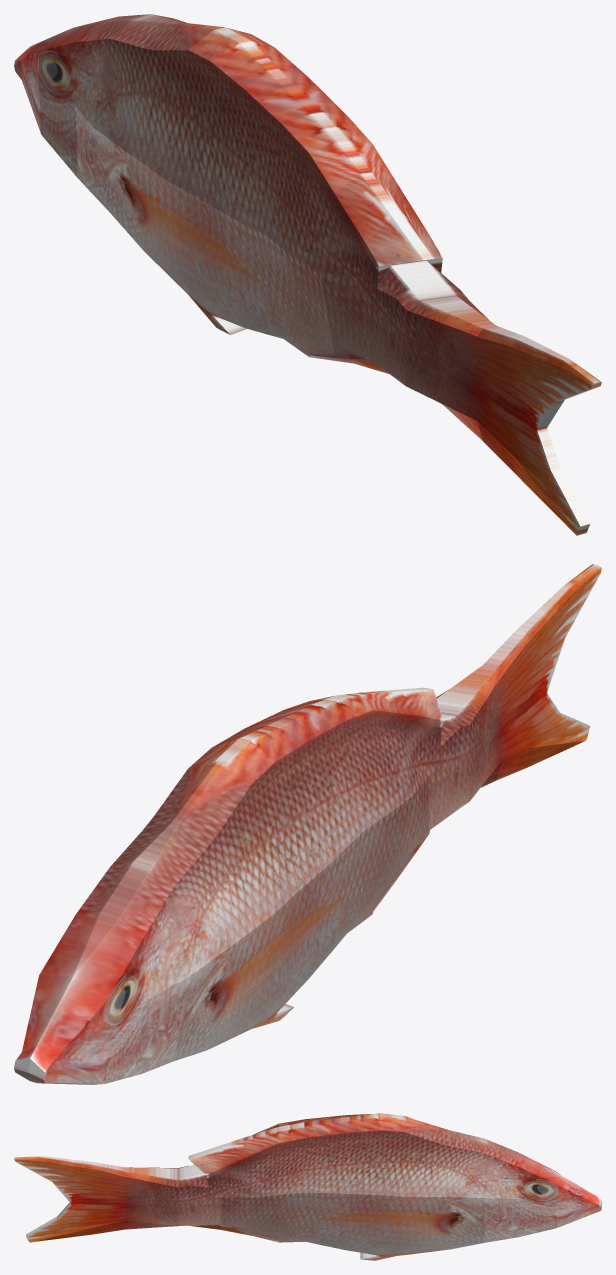
The model's file is AR_Species_RedSnapper.fbx.
The picture shows the model from 3 angles, top to bottom: view 1: azimuth 30°, elevation 25°; view 2: azimuth 150°, elevation 25°; view 3: azimuth 270°, elevation 25°; orthographic projection. The views are drawn at different scales.
Parts seen in each view (by area): view 1: Red Snapper.001; view 2: Red Snapper.001; view 3: Red Snapper.001.
Boxes of the visible parts, bbox=[...] form: Red Snapper.001: bbox=[14, 14, 601, 535]; Red Snapper.001: bbox=[14, 564, 601, 1084]; Red Snapper.001: bbox=[14, 1113, 601, 1260].
Bounding box in the file's own units: 48.8 × 124 × 461.
Materials: 1 (1 with a texture image).
